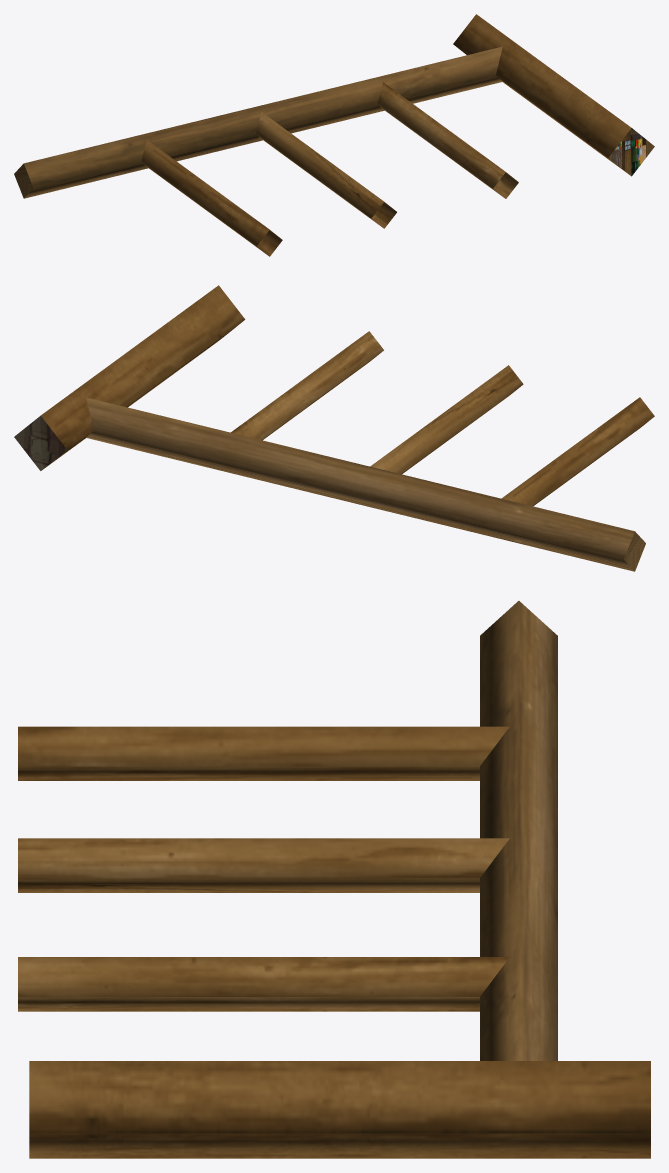
Rendered from Fencex3.fbx.
3 renders of one model, top to bottom at view 1: azimuth 30°, elevation 25°; view 2: azimuth 150°, elevation 25°; view 3: azimuth 270°, elevation 25°, orthographic. The views are drawn at different scales.
Parts seen in each view (by area): view 1: Fencex3; view 2: Fencex3; view 3: Fencex3.
Boxes of the visible parts, x1=… form: Fencex3: x1=14, y1=14, x2=654, y2=256; Fencex3: x1=14, y1=285, x2=654, y2=571; Fencex3: x1=18, y1=601, x2=650, y2=1158.
Bounding box in the file's own units: 28.47 × 2.61 × 15.34.
